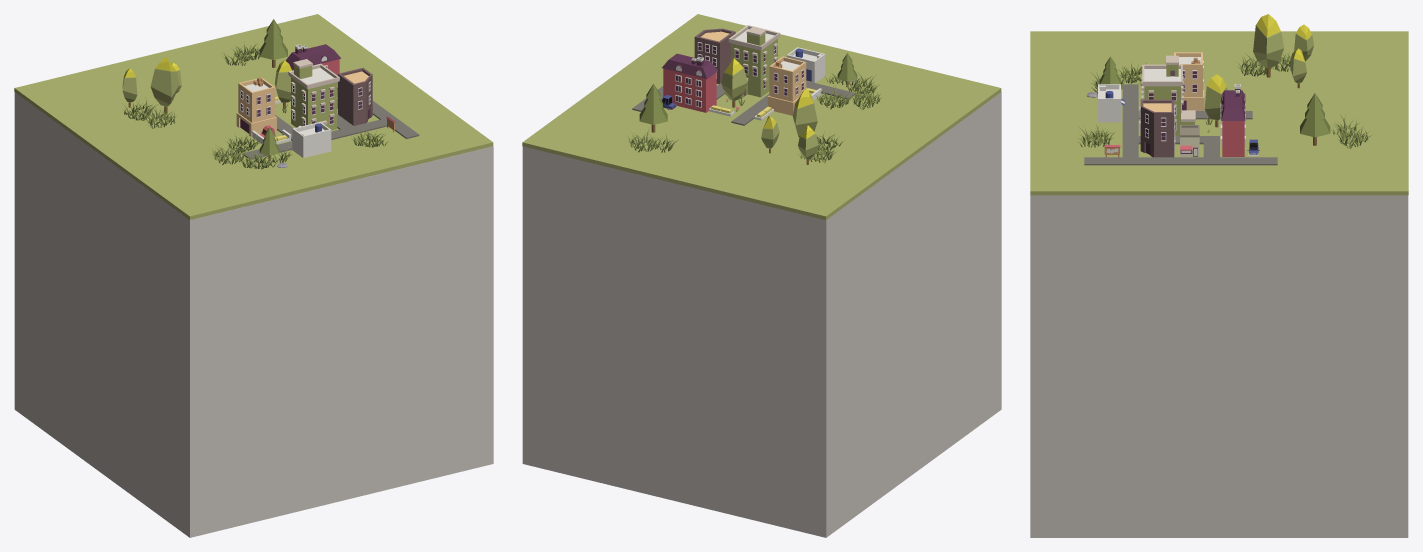
Rendered from Town1.fbx.
The picture shows the model from 3 angles, left to right: view 1: azimuth 30°, elevation 25°; view 2: azimuth 150°, elevation 25°; view 3: azimuth 270°, elevation 25°; orthographic projection. The views are drawn at different scales.
Visible parts, largest first — view 1: town_1; view 2: town_1; view 3: town_1.
Boxes of the visible parts, box(x1,y1,x2,y2) form: town_1: box(14, 14, 493, 537); town_1: box(522, 14, 1001, 537); town_1: box(1030, 14, 1408, 537).
Bounding box in the file's own units: 12 × 14.47 × 12.02.
